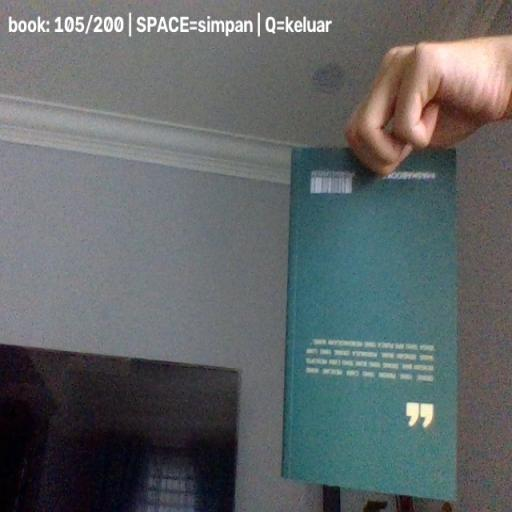Book: (281, 148, 459, 502)
